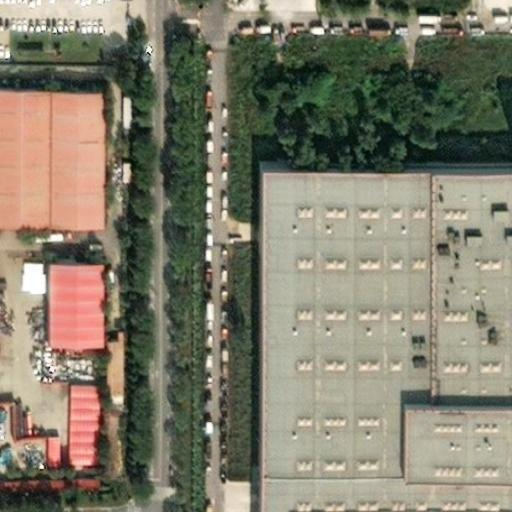building: (239, 157, 512, 512), (0, 78, 91, 217), (393, 382, 512, 459), (36, 250, 91, 333), (67, 379, 100, 465), (0, 471, 101, 495), (103, 400, 128, 473), (106, 327, 126, 400), (0, 394, 22, 439), (42, 430, 60, 466), (121, 87, 133, 127), (365, 20, 391, 36), (118, 155, 133, 180)
